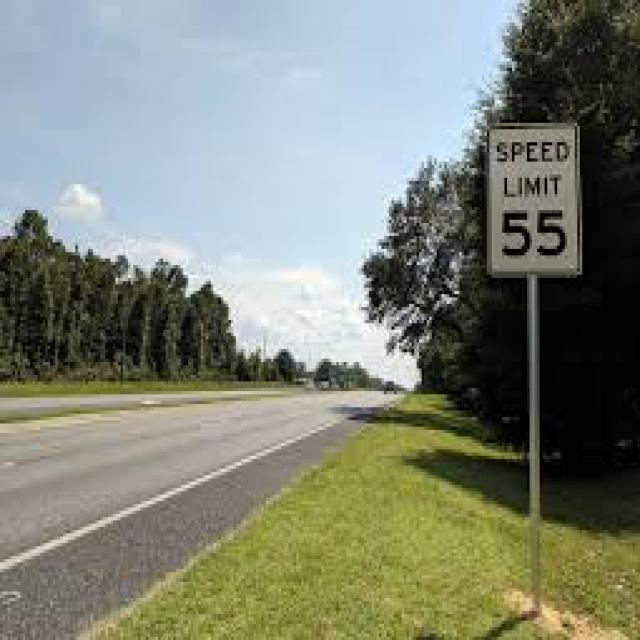speedLimit55: (482, 126, 580, 275)
